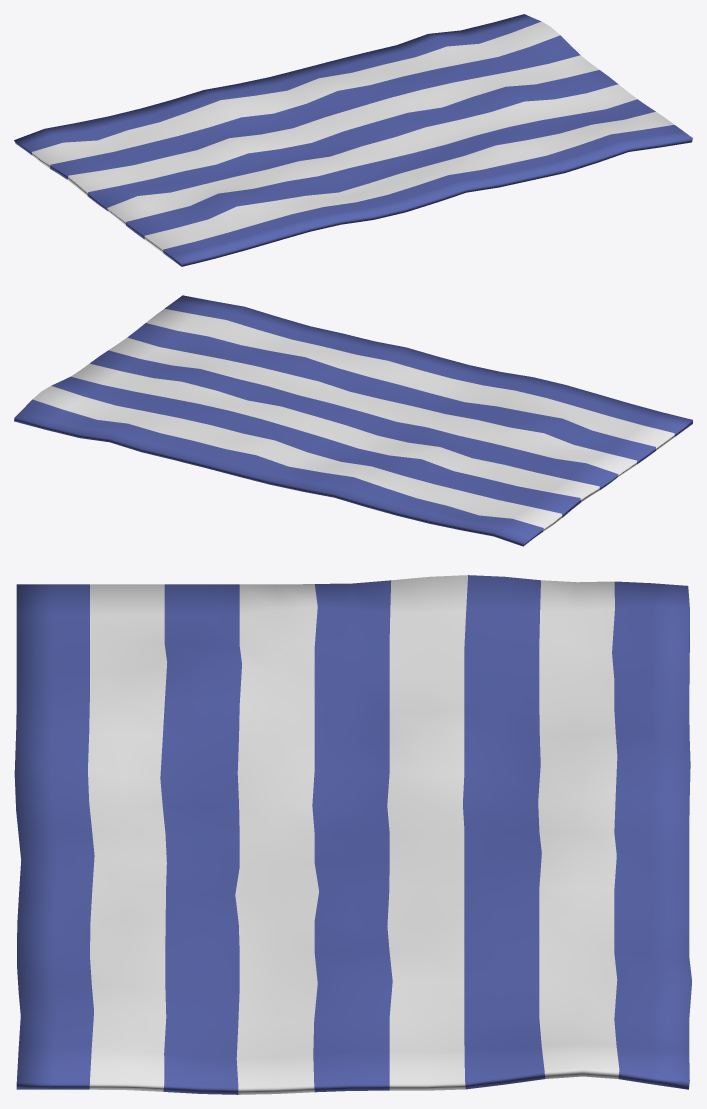
The model's file is towelRed.fbx.
The picture shows the model from 3 angles, top to bottom: view 1: azimuth 30°, elevation 25°; view 2: azimuth 150°, elevation 25°; view 3: azimuth 270°, elevation 25°; orthographic projection. The views are drawn at different scales.
Visible parts, largest first — view 1: Plane; view 2: Plane; view 3: Plane.
Boxes of the visible parts, <box> form: Plane: <box>14,14,692,266</box>; Plane: <box>14,295,692,546</box>; Plane: <box>14,575,691,1094</box>.
Size of the model in its own units: 521 by 16.06 by 298.
